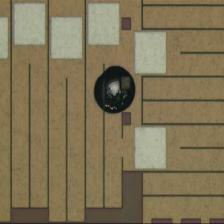PARTICLE: (92, 65, 140, 116)
